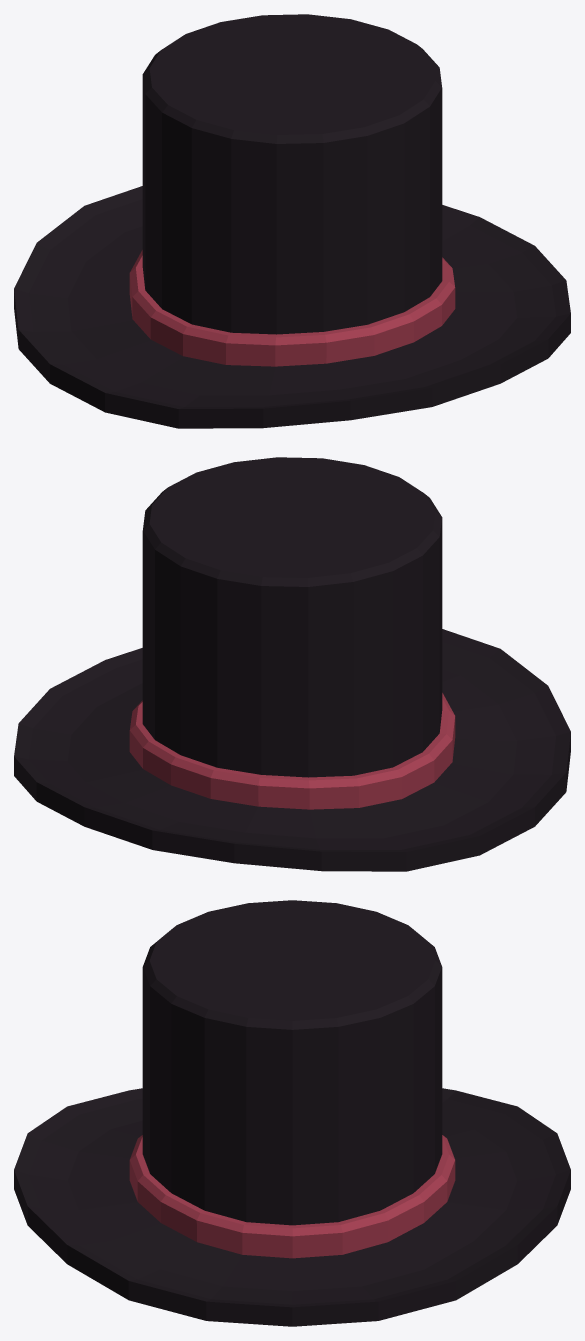
The model's file is hat-c.glb.
3 renders of one model, top to bottom at view 1: azimuth 30°, elevation 25°; view 2: azimuth 150°, elevation 25°; view 3: azimuth 270°, elevation 25°, orthographic.
Parts seen in each view (by area): view 1: Hat C (×2); view 2: Hat C (×2); view 3: Hat C (×2).
Part boxes in pixels (x1,y1,x2,y2): Hat C (×2): (14, 14, 570, 428); Hat C (×2): (14, 457, 570, 871); Hat C (×2): (14, 900, 570, 1326).
Size of the model in its own units: 0.4893 by 0.2409 by 0.4893.
